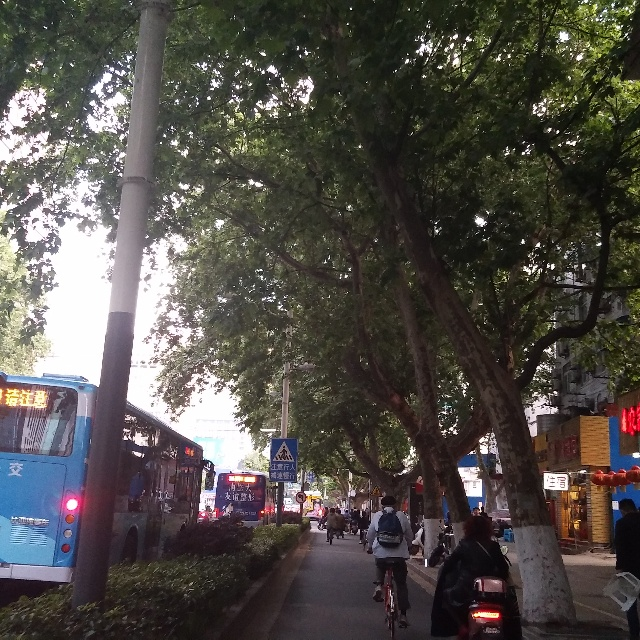crosswalk: (271, 440, 295, 462)
